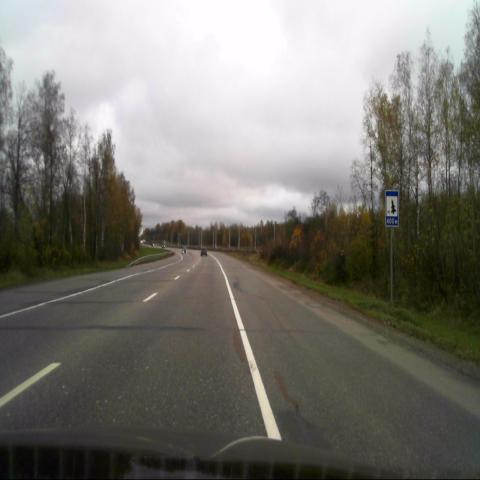7_11: (384, 190, 399, 226)
